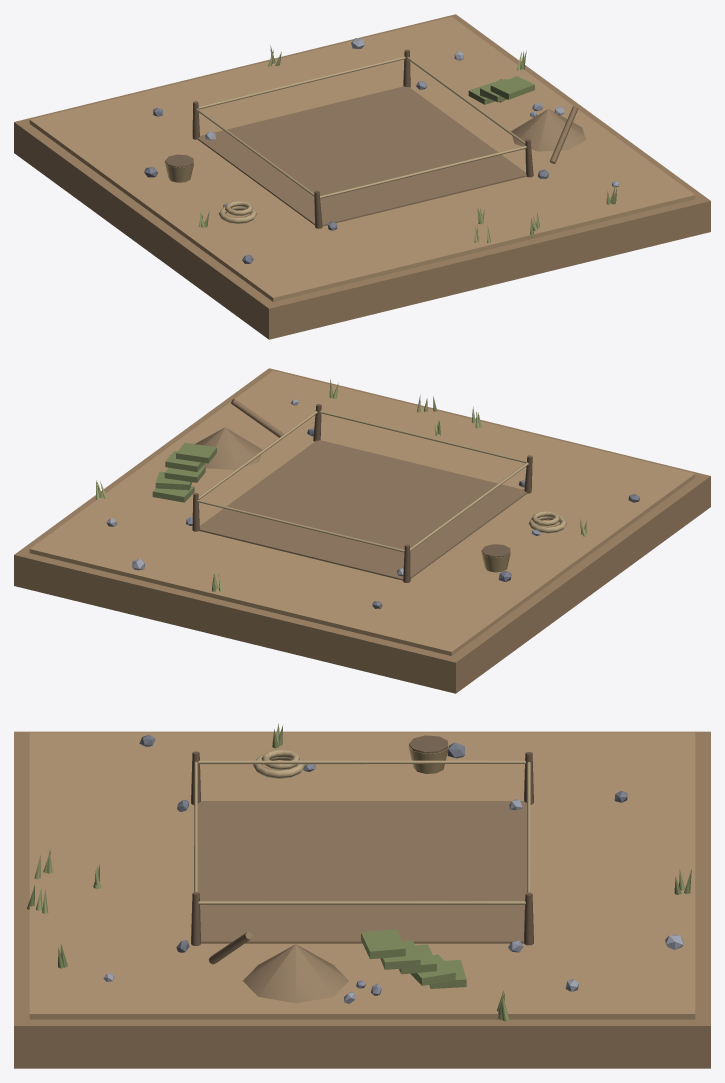
File: num-3-site.glb
The picture shows the model from 3 angles, top to bottom: view 1: azimuth 30°, elevation 25°; view 2: azimuth 150°, elevation 25°; view 3: azimuth 270°, elevation 25°; orthographic projection. The views are drawn at different scales.
Parts seen in each view (by area): view 1: era1; view 2: era1; view 3: era1.
Boxes of the visible parts, x1,y1,x2,y2 form: era1: (14,14,710,339); era1: (14,368,710,693); era1: (14,723,710,1068).
Bounding box in the file's own units: 13.4 × 2.18 × 13.4.
